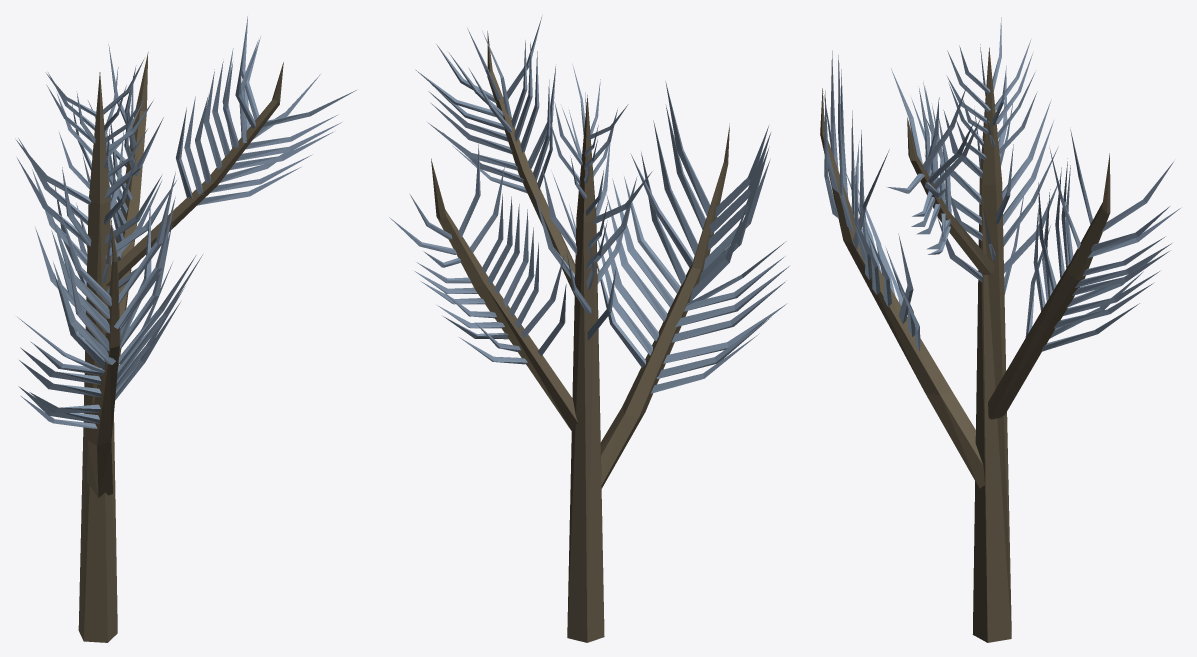
File: Blue_Spruce_2_1.fbx
The picture shows the model from 3 angles, left to right: view 1: azimuth 30°, elevation 25°; view 2: azimuth 150°, elevation 25°; view 3: azimuth 270°, elevation 25°; orthographic projection. The views are drawn at different scales.
Parts seen in each view (by area): view 1: Spurce_2_1; view 2: Spurce_2_1; view 3: Spurce_2_1.
Part boxes in pixels (x1=…): Spurce_2_1: x1=15, y1=16, x2=356, y2=642; Spurce_2_1: x1=389, y1=17, x2=789, y2=642; Spurce_2_1: x1=820, y1=17, x2=1180, y2=642.
Size of the model in its own units: 101 by 162 by 85.84.
